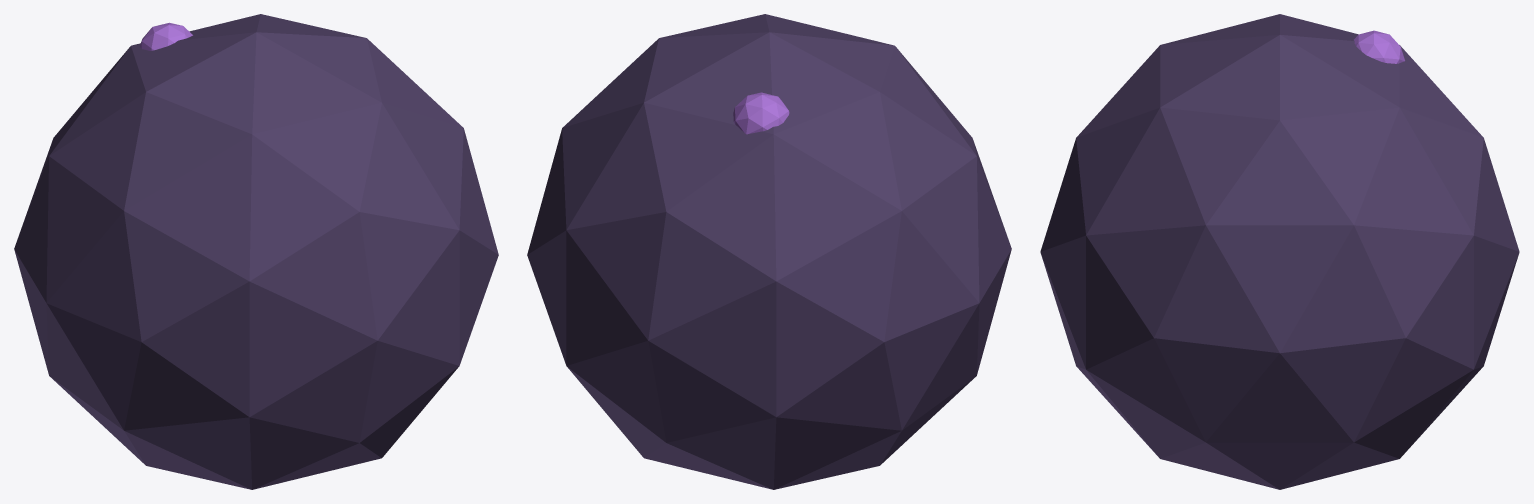
File: supreme_horror.glb
The picture shows the model from 3 angles, left to right: view 1: azimuth 30°, elevation 25°; view 2: azimuth 150°, elevation 25°; view 3: azimuth 270°, elevation 25°; orthographic projection.
Visible parts, largest first — view 1: geometry_0; view 2: geometry_0; view 3: geometry_0.
Boxes of the visible parts, left/top/right/bottom form: geometry_0: left=14, top=14, right=498, bottom=489; geometry_0: left=527, top=14, right=1011, bottom=489; geometry_0: left=1040, top=14, right=1519, bottom=489.
Size of the model in its own units: 0.92 by 0.92 by 0.92.
